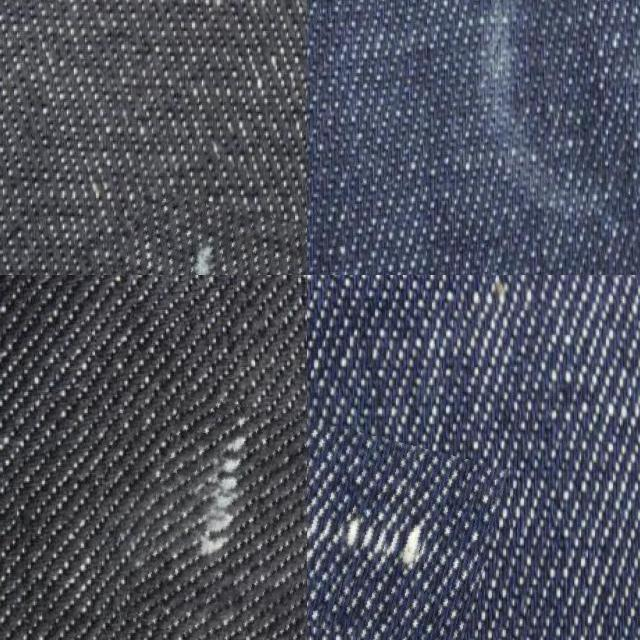stains: (307, 385, 499, 637), (139, 400, 307, 640), (111, 202, 307, 275)
